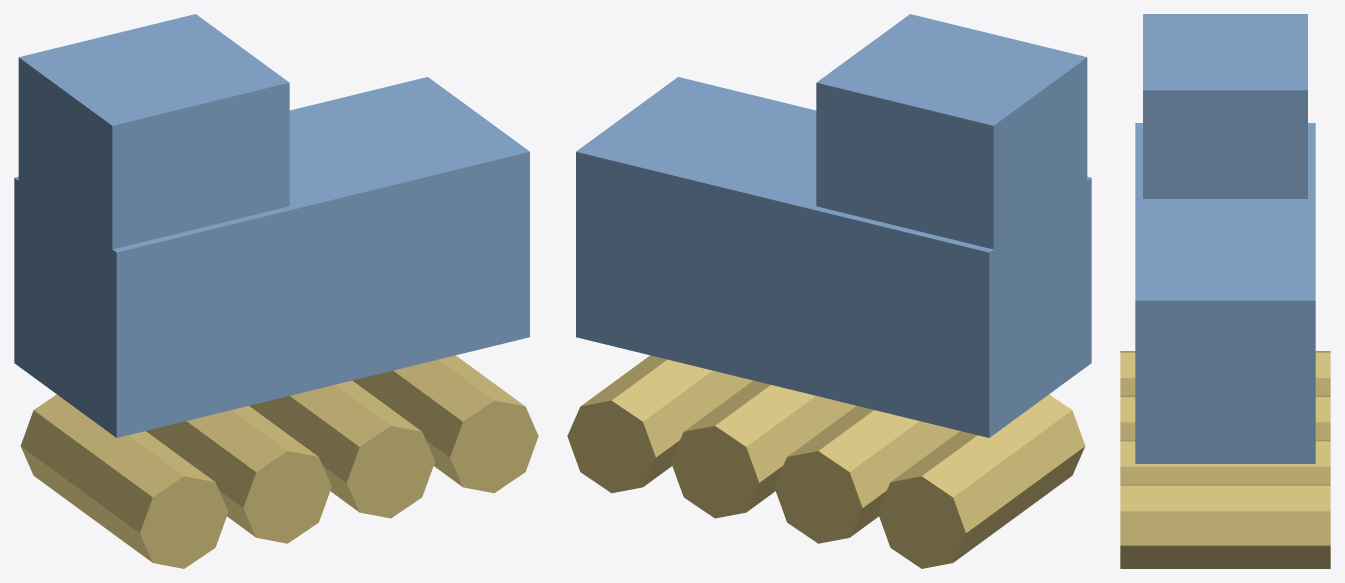
File: kid_patins.glb
3 renders of one model, left to right at view 1: azimuth 30°, elevation 25°; view 2: azimuth 150°, elevation 25°; view 3: azimuth 270°, elevation 25°, orthographic. The views are drawn at different scales.
Parts seen in each view (by area): view 1: KID_PATINS_v01; view 2: KID_PATINS_v01; view 3: KID_PATINS_v01.
Part boxes in pixels (x1,y1,x2,y2): KID_PATINS_v01: (14,14,538,568); KID_PATINS_v01: (567,14,1091,568); KID_PATINS_v01: (1120,14,1330,568).
Size of the model in its own units: 0.28 by 0.29 by 0.14.
